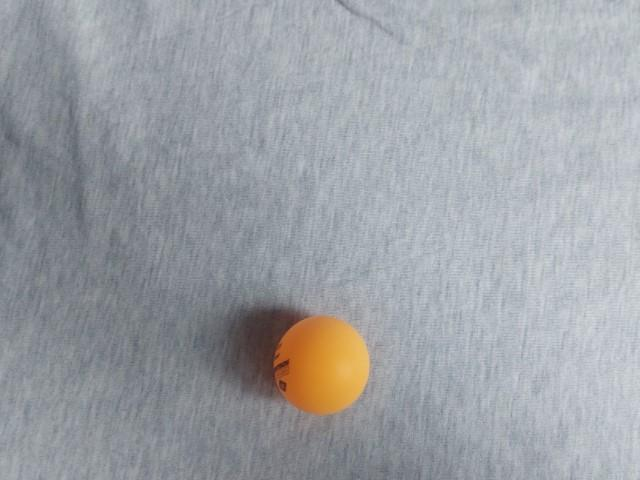oball: (261, 60, 376, 169)
